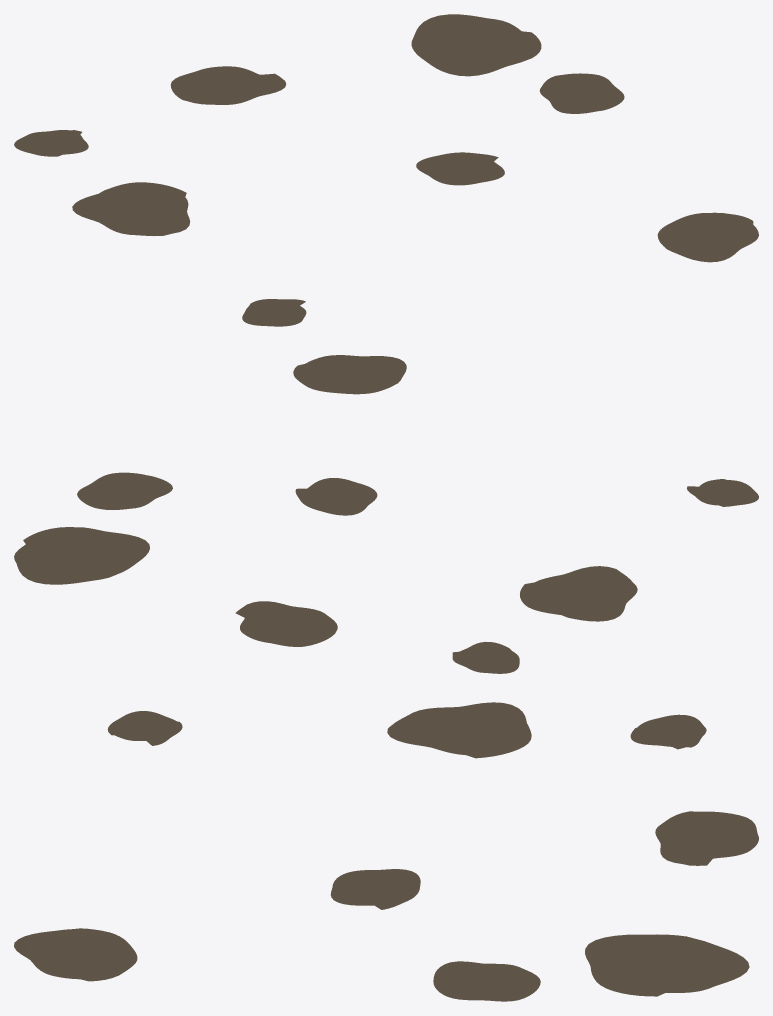
File: Mud.glb
The picture shows the model from 3 angles, top to bottom: view 1: azimuth 30°, elevation 25°; view 2: azimuth 150°, elevation 25°; view 3: azimuth 270°, elevation 25°; orthographic projection. The views are drawn at different scales.
Parts seen in each view (by area): view 1: Mud_1, Mud_7, Mud_3, Mud_5, Mud_6, Mud_0, Mud_2, Mud_4; view 2: Mud_1, Mud_7, Mud_3, Mud_5, Mud_6, Mud_0, Mud_2, Mud_4; view 3: Mud_1, Mud_7, Mud_3, Mud_5, Mud_6, Mud_0, Mud_2, Mud_4.
Boxes of the visible parts, x1,y1,x2,y2 form: Mud_1: (411,14,541,76); Mud_7: (72,182,190,235); Mud_3: (657,212,758,262); Mud_5: (170,66,286,104); Mud_6: (539,73,624,113); Mud_0: (416,152,504,185); Mud_2: (14,130,88,156); Mud_4: (242,299,306,326); Mud_1: (14,527,149,584); Mud_7: (520,566,637,621); Mud_3: (293,355,406,394); Mud_5: (235,601,337,646); Mud_6: (77,472,172,509); Mud_0: (295,478,377,515); Mud_2: (452,641,519,673); Mud_4: (687,479,758,506); Mud_1: (585,934,749,996); Mud_7: (387,702,531,758); Mud_3: (14,928,137,981); Mud_5: (655,811,758,865); Mud_6: (433,961,540,1001); Mud_0: (330,869,420,909); Mud_2: (630,714,706,749); Mud_4: (107,711,182,745).
Size of the model in its own units: 46.55 by 0.1401 by 48.98.
